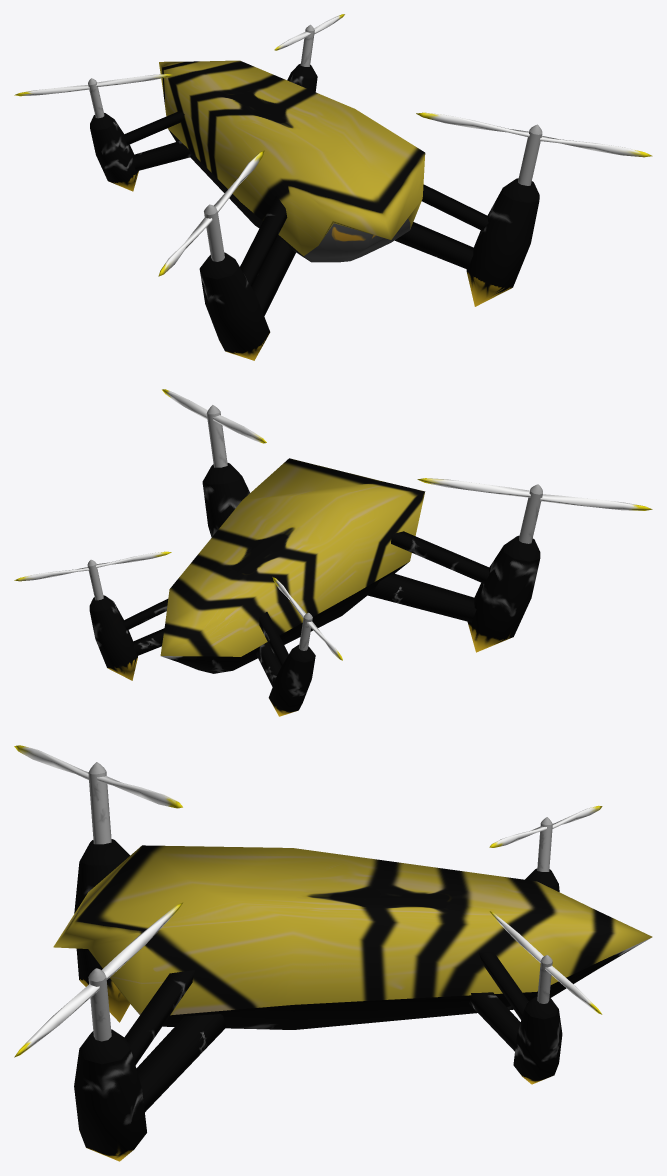
The model's file is Assets2Arthur.fbx_droneVespa.fbx.
3 views of the same model, one above another, from view 1: azimuth 30°, elevation 25°; view 2: azimuth 150°, elevation 25°; view 3: azimuth 270°, elevation 25° (orthographic). The views are drawn at different scales.
Visible parts, largest first — view 1: droneVespa, droneBraco; view 2: droneVespa, droneBraco; view 3: droneVespa, droneBraco.
Boxes of the visible parts, <box> form: droneVespa: <box>159,60,425,262</box>; droneBraco: <box>14,14,652,360</box>; droneVespa: <box>160,458,425,673</box>; droneBraco: <box>14,389,652,716</box>; droneVespa: <box>53,845,652,1029</box>; droneBraco: <box>14,745,602,1161</box>.
Bounding box in the file's own units: 336 × 120 × 291.
